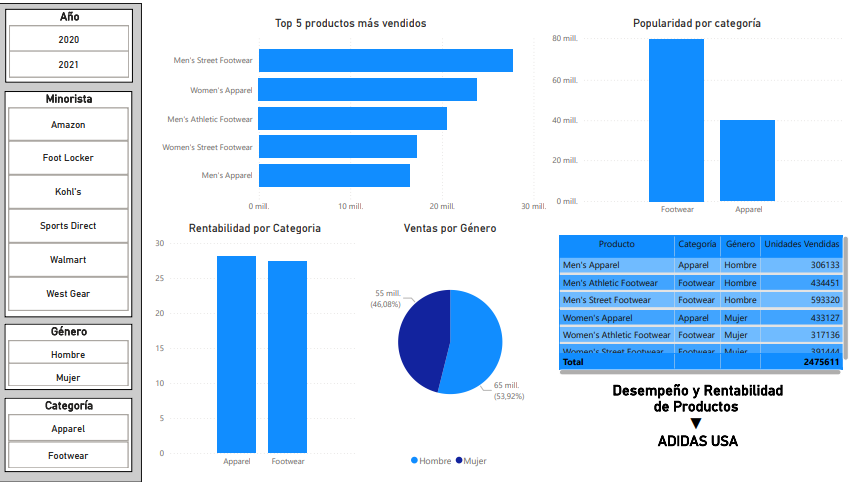

What the dashboard file says about the page in this screenshot:
{"tool":"powerbi","page":{"name":"Análisis de Producto","canvas":[1280,720],"ordinal":1},"visuals":[{"type":"shape","box":[0,0,215.3,719.4],"z":0},{"type":"advancedSlicerVisual","fields":{"Values":["Adidas_US_2.Año"]},"box":[9.7,20.8,191.7,118.1],"z":1000},{"type":"advancedSlicerVisual","fields":{"Values":["Adidas_US_2.Product"]},"box":[9.7,148.6,191.7,359.7],"z":2000},{"type":"advancedSlicerVisual","fields":{"Values":["Adidas_US_2.Género"]},"box":[9.7,520.8,191.7,111.1],"z":3000},{"type":"barChart","title":"Top 5 productos más vendidos","fields":{"Y":["Adidas_US_2.Ventas Totales"],"Category":["Adidas_US_2.Product"]},"box":[230.6,20.8,595.8,302.8],"z":4000},{"type":"clusteredColumnChart","title":"Popularidad por categoría","fields":{"Category":["Adidas_US_2.Category"],"Y":["Adidas_US_2.Ventas Totales"]},"box":[826.4,20.8,444.4,306.9],"z":5000},{"type":"columnChart","fields":{"Category":["Adidas_US_2.Category"],"Y":["Adidas_US_2.Rentabilidad"]},"box":[230.6,327.8,308.3,377.8],"z":6000},{"type":"donutChart","title":"Ventas por Género","fields":{"Category":["Adidas_US_2.Género"],"Y":["Adidas_US_2.Ventas Totales"]},"box":[538.9,327.8,277.8,377.8],"z":7000},{"type":"tableEx","fields":{"Values":["Adidas_US_2.Product","Adidas_US_2.Category","Adidas_US_2.Género","Adidas_US_2.Unidades Vendidas"]},"box":[826.4,329.2,444.4,218.1],"z":8000},{"type":"textbox","box":[912.5,563.9,272.2,134.7],"z":9000},{"type":"image","box":[30.6,631.9,150,75],"z":10000}]}

Visuals, with their boxes in screenshot pixels (x1, y1, x2, y2), scaled from the page's 1280x720 canvas onto the 850x483 screenshot:
shape: bbox(0, 0, 143, 482)
advancedSlicerVisual - Adidas_US_2.Año: bbox(6, 14, 134, 93)
advancedSlicerVisual - Adidas_US_2.Product: bbox(6, 100, 134, 341)
advancedSlicerVisual - Adidas_US_2.Género: bbox(6, 349, 134, 424)
"Top 5 productos más vendidos" barChart: bbox(153, 14, 549, 217)
"Popularidad por categoría" clusteredColumnChart: bbox(549, 14, 844, 220)
columnChart - Adidas_US_2.Category x Adidas_US_2.Rentabilidad: bbox(153, 220, 358, 473)
"Ventas por Género" donutChart: bbox(358, 220, 542, 473)
tableEx - Adidas_US_2.Product x Adidas_US_2.Category: bbox(549, 221, 844, 367)
textbox: bbox(606, 378, 787, 469)
image: bbox(20, 424, 120, 474)
